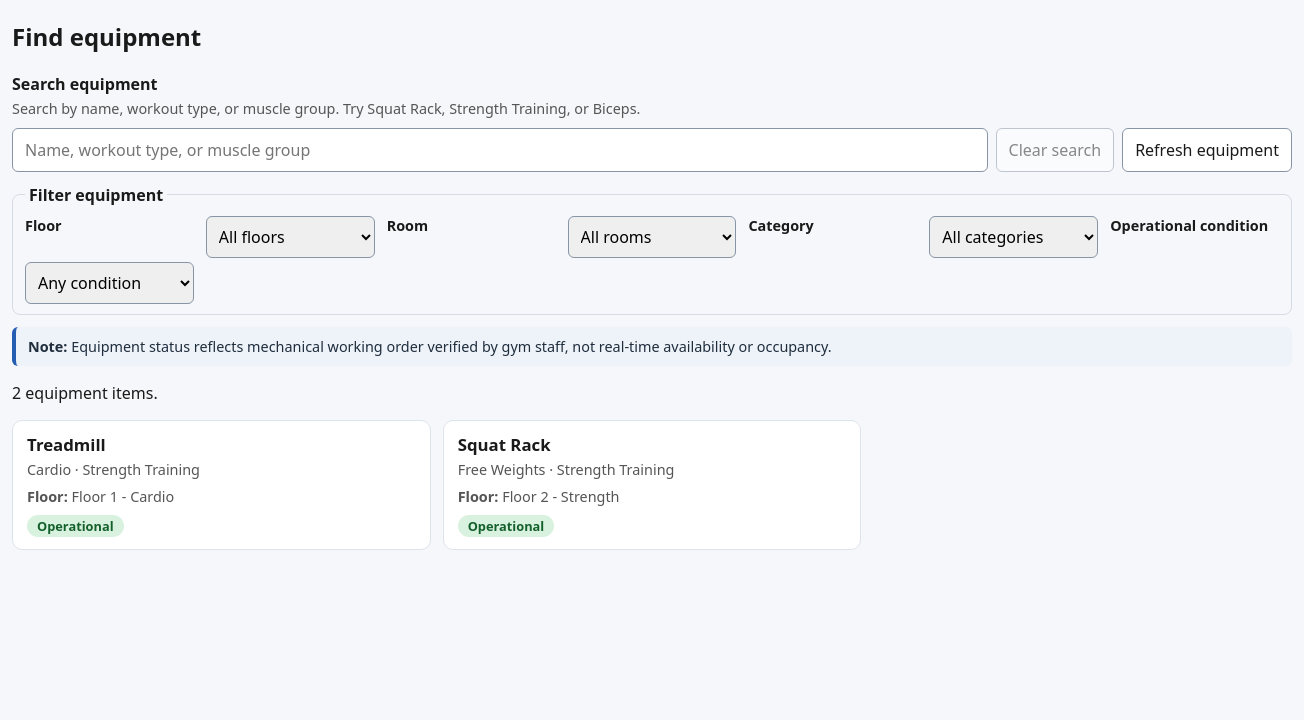
Scenario: US3: filters combine, show removable chips, and Clear All restores the catalog
Expected: the heading "Treadmill" is shown, [27,433,106,456]
Expected: the heading "Squat Rack" is shown, [458,433,551,456]
Select "Floor 2 - Strength" in the dropdown labelled "Floor" at (290, 237), box [206,216,375,258]
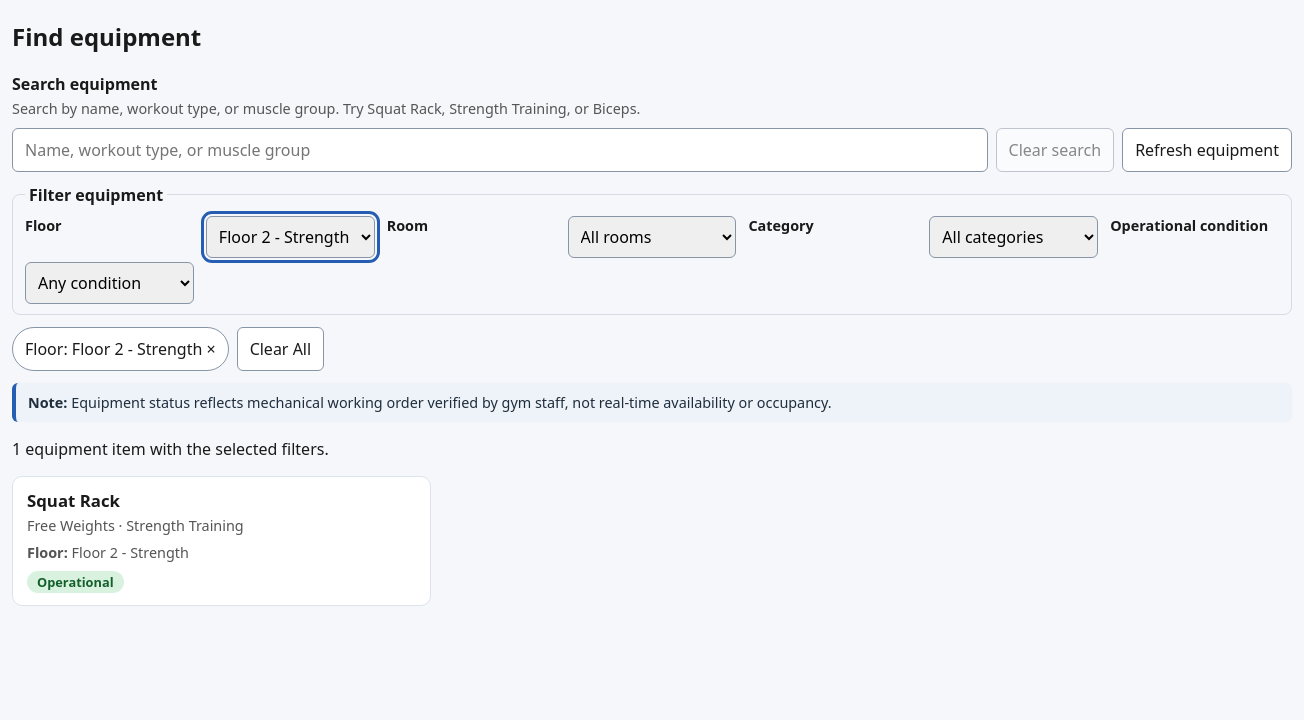
Result: the heading "Treadmill" is gone
Select "Free Weights" in the dropdown labelled "Category" at (1014, 237), box [929,216,1098,258]
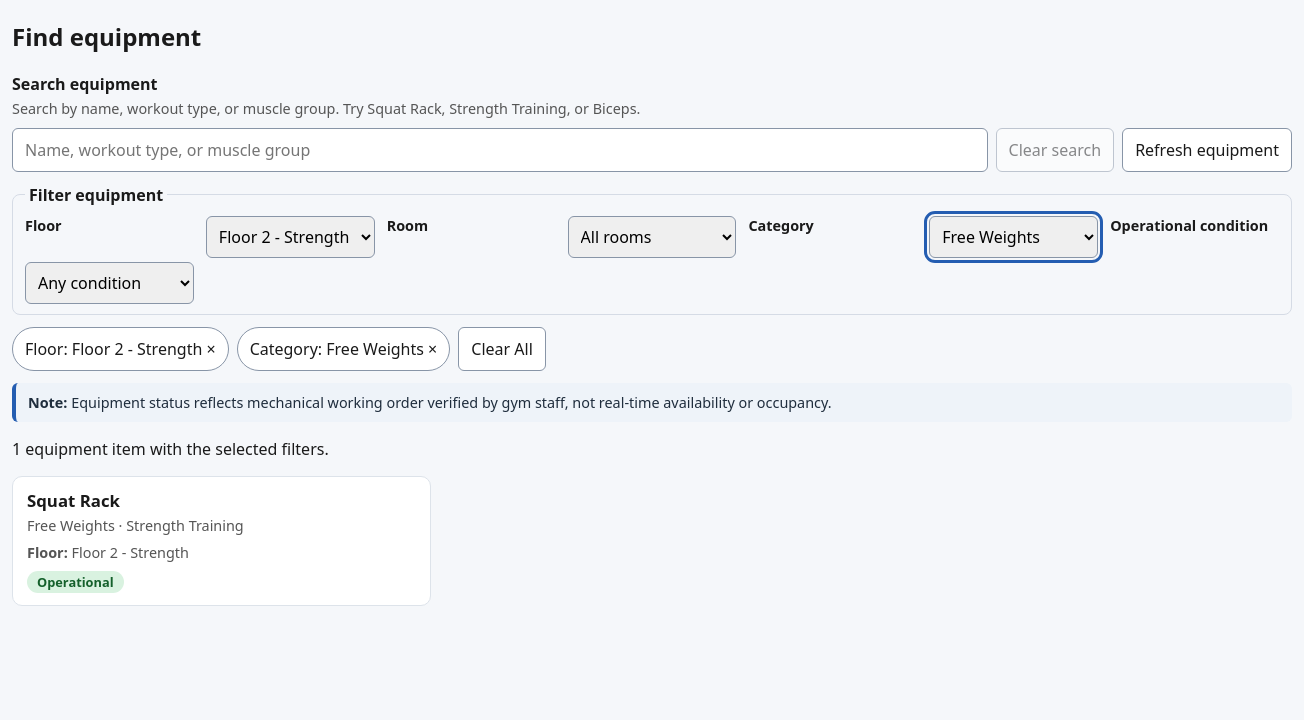
Result: the button with aria-label "Remove filter Floor: Floor 2 - Strength" is shown
Result: the button with aria-label "Remove filter Category: Free Weights" is shown at [237,327,450,371]
Click the button with aria-label "Remove filter Floor: Floor 2 - Strength" at (120, 349), box [12,327,229,371]
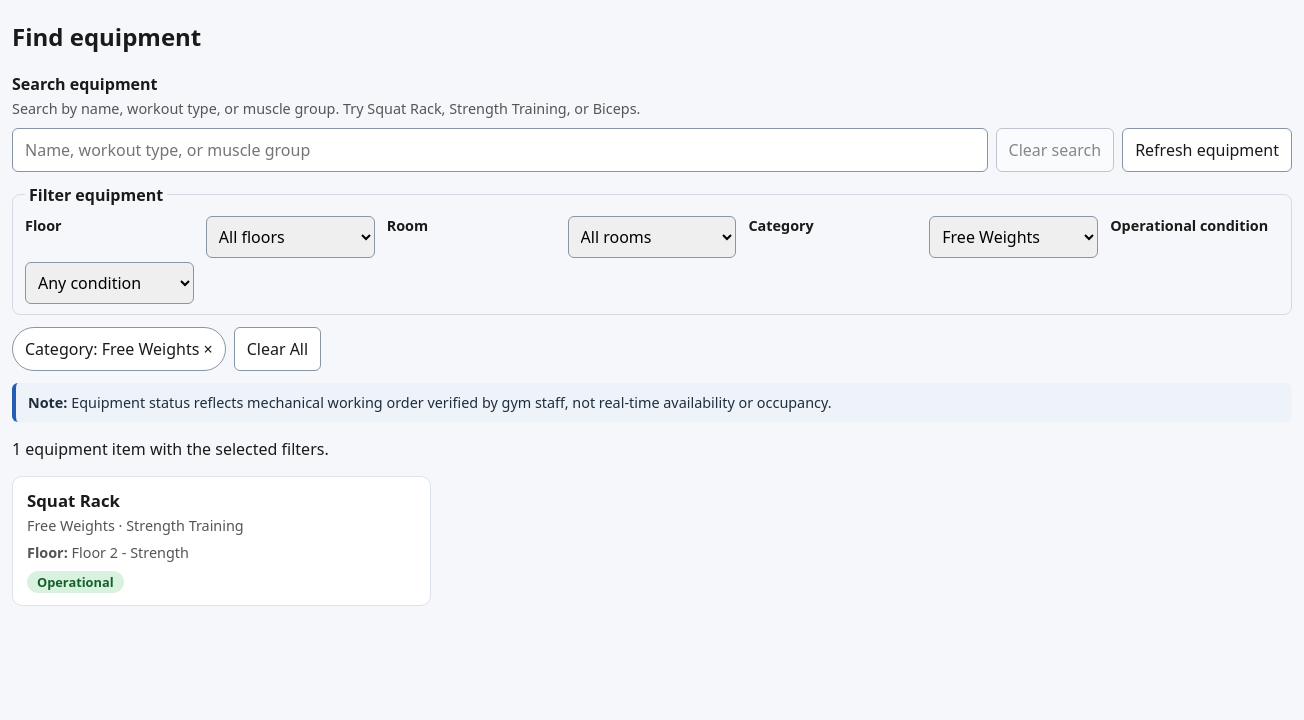
Click the button "Clear All" at (277, 349), box [234,327,321,371]
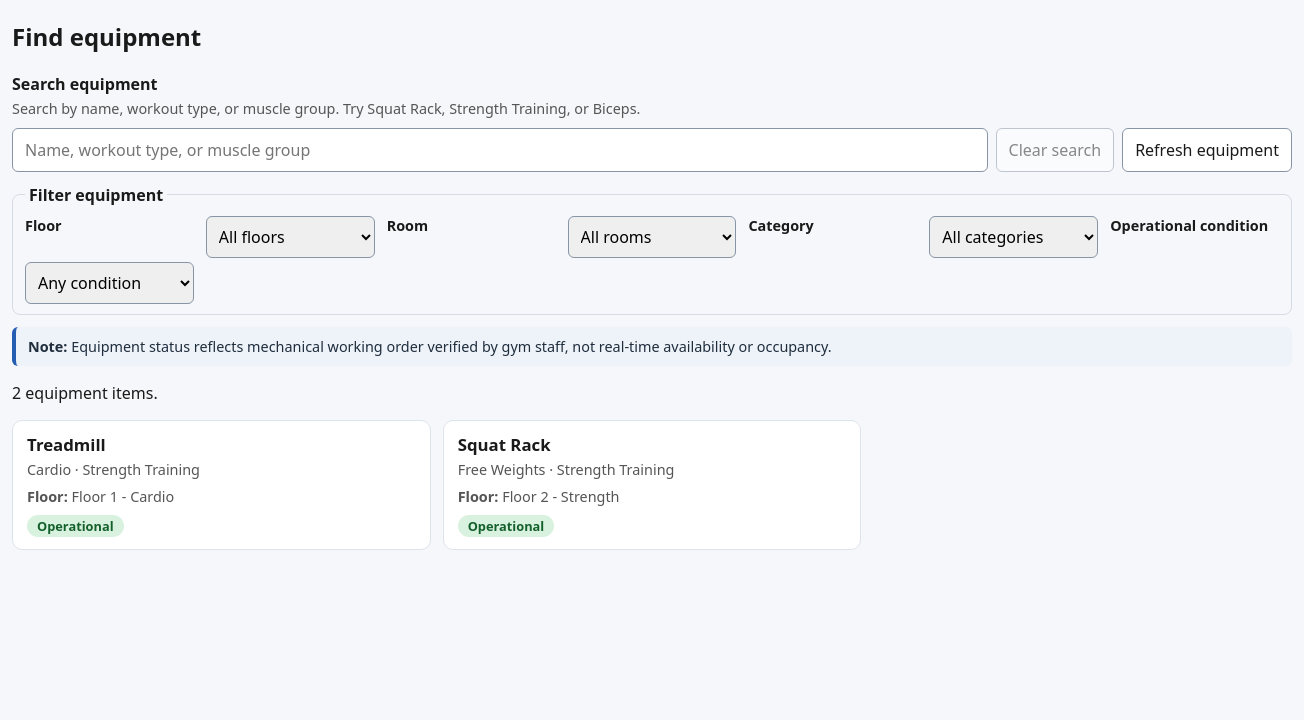
Expected: the heading "Squat Rack" is shown, [458,433,551,456]
Result: the heading "Treadmill" is shown at [27,433,106,456]
